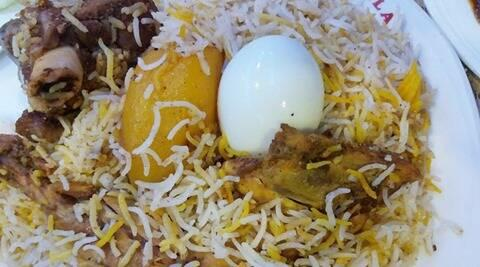Biryani: (0, 0, 444, 267)
